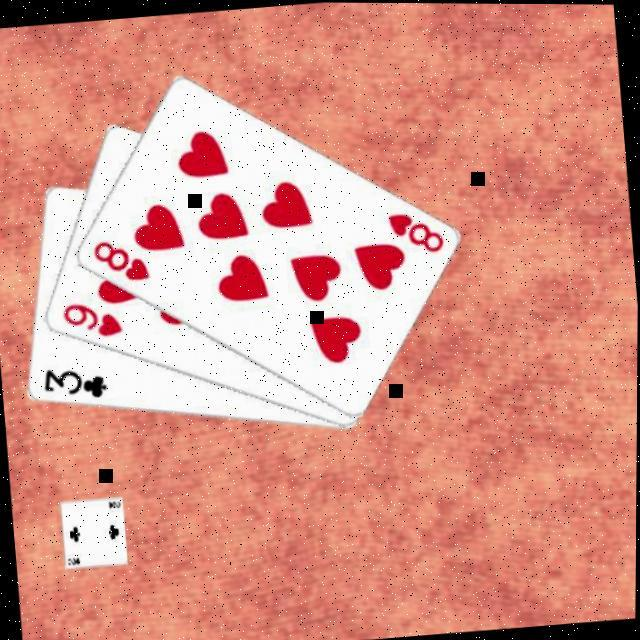3C: (38, 362, 109, 407)
8H: (88, 235, 152, 288), (382, 207, 446, 260)
9H: (58, 297, 124, 344)
